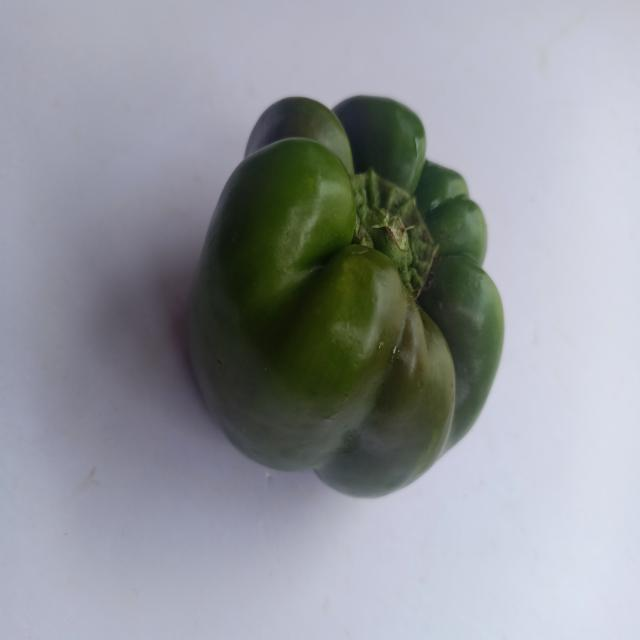Capsicum: (183, 75, 517, 561)
